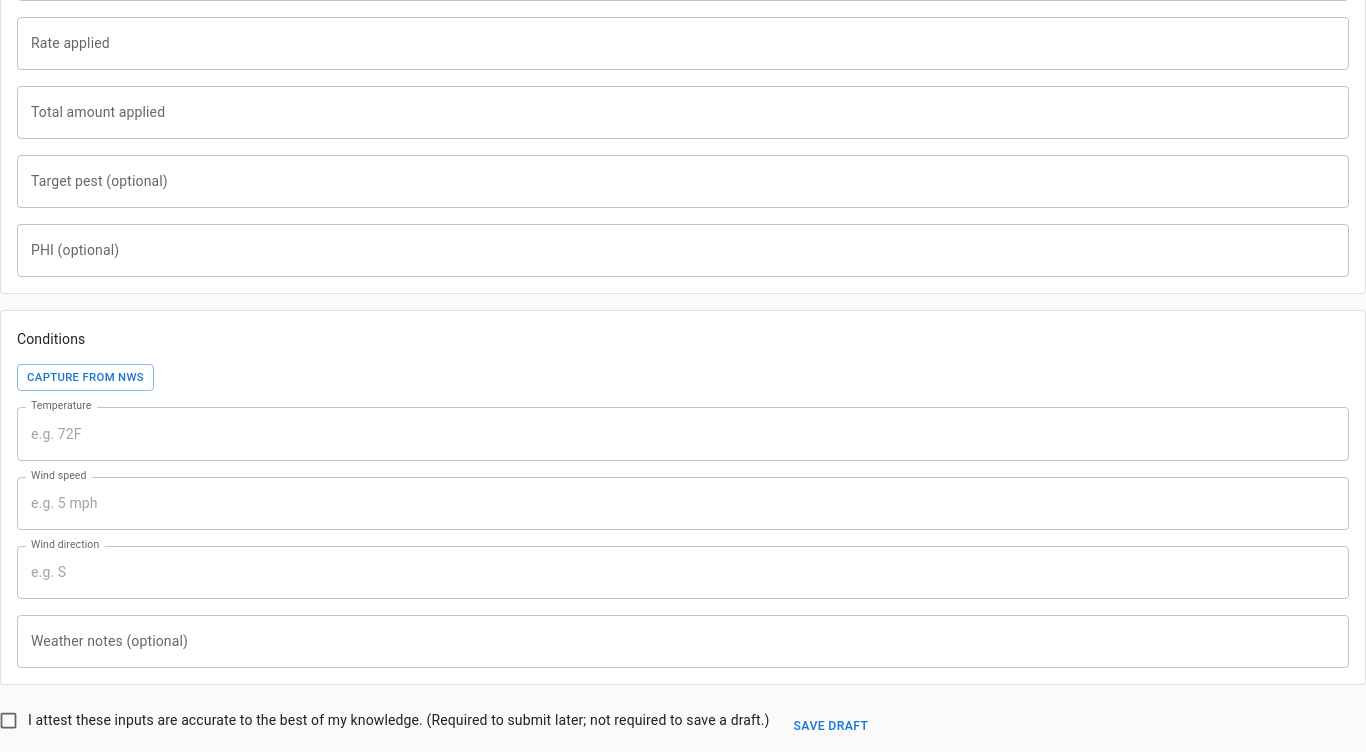
Test: DraftApplicationRecordForm weather capture › does not block submit when geolocation permission is denied (manual override)
The image size is (1366, 752).
(page scrolled)
Step 1. Click the button "Capture from NWS" → (86, 377), box [17,364,154,391]
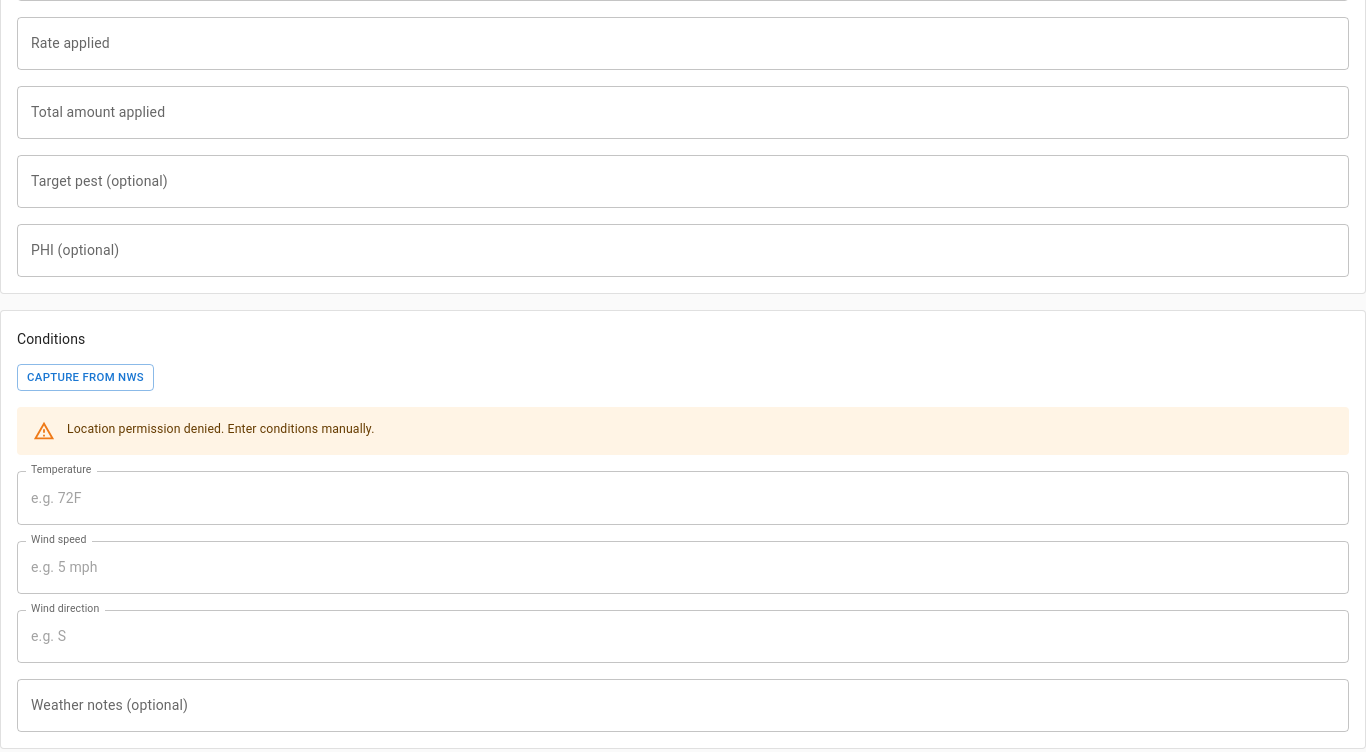
Expected: the field labelled "Temperature" is enabled, [17,472,1349,525]
Now the message with test id "weather-capture-alert" shows "permission denied", box [67,422,374,436]
